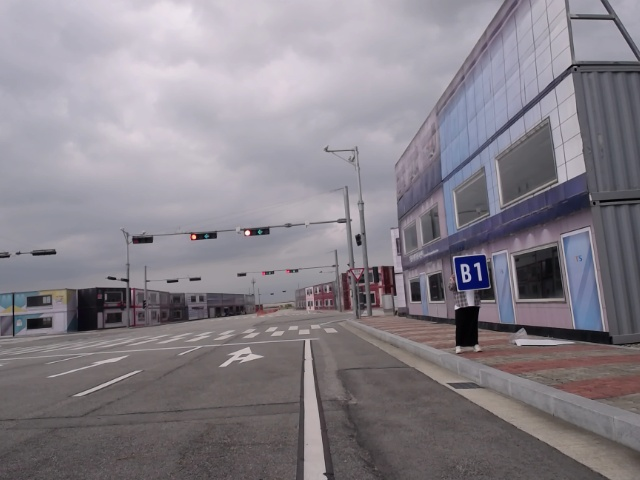delivery_b1: (453, 254, 490, 291)
left_green_4: (244, 227, 270, 236), (190, 232, 217, 240), (262, 271, 275, 275), (287, 269, 298, 273)
